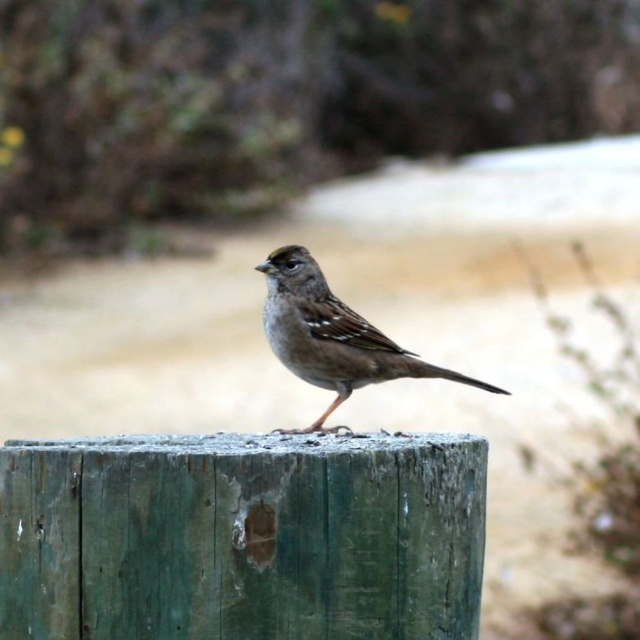Sparrow: (255, 240, 515, 430)
